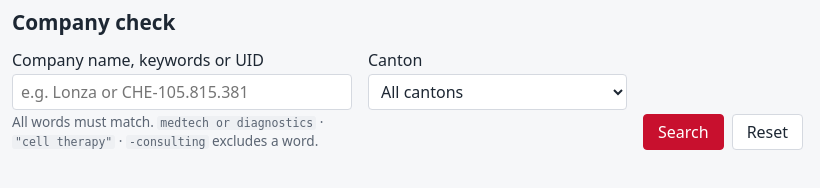
explains short queries instead of ignoring them
Type "L" into the field labelled "Company name, keywords or UID".
click(182, 92); type("L")  # box x1=12 y1=74 x2=352 y2=110
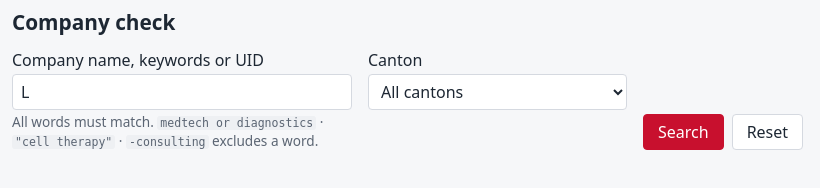
Click the button "Search".
click(683, 132)  # box x1=643 y1=114 x2=724 y2=150
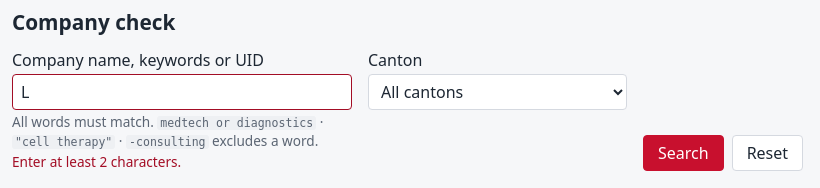
Expected: the text "Enter at least 2 characters." is shown, x1=12 y1=152 x2=181 y2=171
